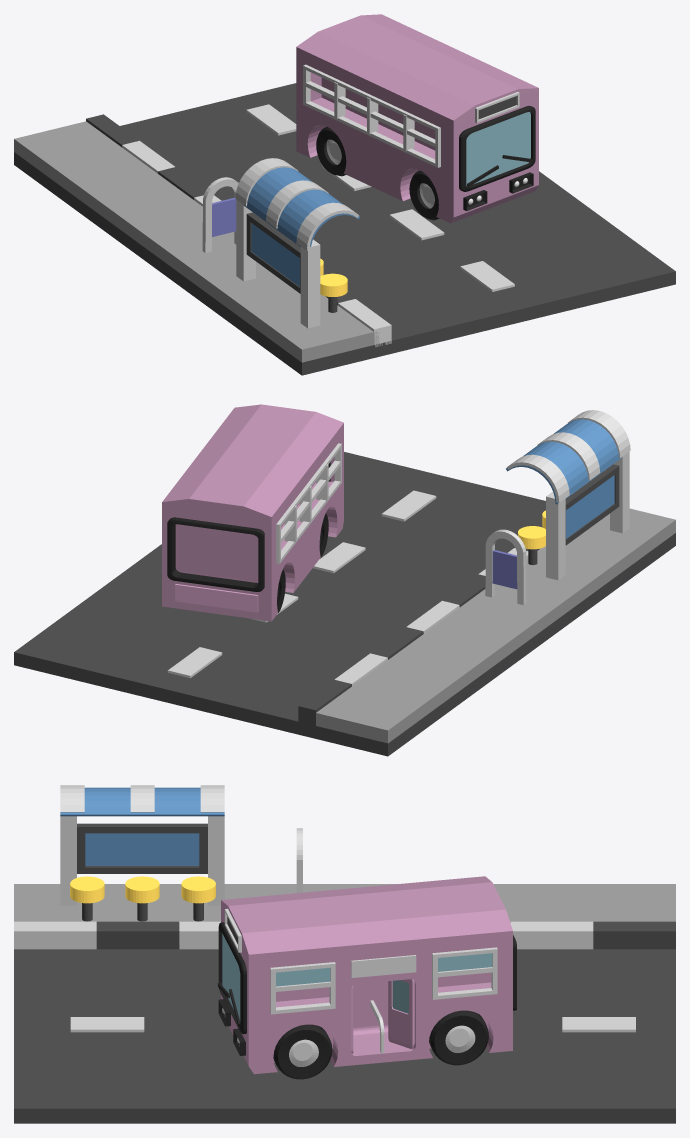
Rendered from bus.glb.
3 views of the same model, one above another, from view 1: azimuth 30°, elevation 25°; view 2: azimuth 150°, elevation 25°; view 3: azimuth 270°, elevation 25° (orthographic). The views are drawn at different scales.
Visible parts, largest first — view 1: Cube.019_Cube.034, Cube_Cube.001, Cube.028_Cube.043, Plane.006, Cube.003_Cube.016, Cylinder.008_Cylinder.015, Cube.024_Cube.039, Cube.013_Cube.020, Cube.027_Cube.002, Cube.026_Cube.046, Cube.029_Cube.045, Cube.025_Cube.040 (+14 smaller); view 2: Cube.019_Cube.034, Cube_Cube.001, Cube.028_Cube.043, Cylinder.008_Cylinder.015, Cube.007_Cube.022, Cube.003_Cube.016, Cube.025_Cube.040, Cube.015_Cube.027, Cube.027_Cube.002, Circle.001_Circle, Cube.026_Cube.046, Cube.035_Cube.010 (+13 smaller); view 3: Cube.019_Cube.034, Cube_Cube.001, Cube.028_Cube.043, Cube.027_Cube.002, Cylinder.008_Cylinder.015, Cube.026_Cube.046, Cube.031_Cube.004, Cube.035_Cube.010, Cube.029_Cube.045, Cube.034_Cube.009, Cylinder.001_Cylinder.006, Cylinder.002 (+22 smaller).
Boxes of the visible parts, left/top/right/bottom form: Cube.019_Cube.034: left=14, top=83, right=675, bottom=375; Cube_Cube.001: left=296, top=14, right=538, bottom=223; Cube.028_Cube.043: left=14, top=121, right=379, bottom=362; Plane.006: left=466, top=112, right=530, bottom=186; Cube.003_Cube.016: left=303, top=64, right=440, bottom=167; Cylinder.008_Cylinder.015: left=243, top=167, right=359, bottom=246; Cube.024_Cube.039: left=300, top=239, right=320, bottom=328; Cube.013_Cube.020: left=459, top=106, right=535, bottom=191; Cube.027_Cube.002: left=251, top=223, right=299, bottom=286; Cube.026_Cube.046: left=246, top=212, right=300, bottom=293; Cube.029_Cube.045: left=338, top=299, right=391, bottom=346; Cube.025_Cube.040: left=236, top=199, right=255, bottom=281; Cube.019_Cube.034: left=14, top=452, right=675, bottom=756; Cube_Cube.001: left=162, top=404, right=343, bottom=621; Cube.028_Cube.043: left=316, top=508, right=675, bottom=743; Cylinder.008_Cylinder.015: left=506, top=419, right=622, bottom=504; Cube.007_Cube.022: left=167, top=517, right=264, bottom=591; Cube.003_Cube.016: left=276, top=443, right=341, bottom=563; Cube.025_Cube.040: left=546, top=491, right=565, bottom=580; Cube.015_Cube.027: left=175, top=584, right=258, bottom=612; Cube.027_Cube.002: left=566, top=475, right=614, bottom=538; Circle.001_Circle: left=485, top=529, right=526, bottom=605; Cube.026_Cube.046: left=565, top=464, right=619, bottom=545; Cube.035_Cube.010: left=298, top=679, right=351, bottom=728; Cube.019_Cube.034: left=14, top=949, right=675, bottom=1123; Cube_Cube.001: left=221, top=876, right=512, bottom=1074; Cube.028_Cube.043: left=14, top=884, right=675, bottom=921; Cube.027_Cube.002: left=85, top=833, right=199, bottom=865; Cylinder.008_Cylinder.015: left=60, top=787, right=224, bottom=816; Cube.026_Cube.046: left=77, top=823, right=207, bottom=873; Cube.031_Cube.004: left=96, top=921, right=179, bottom=949; Cube.035_Cube.010: left=593, top=921, right=675, bottom=949; Cube.029_Cube.045: left=14, top=921, right=96, bottom=949; Cube.034_Cube.009: left=510, top=921, right=593, bottom=949; Cylinder.001_Cylinder.006: left=429, top=1010, right=488, bottom=1065; Cylinder.002: left=273, top=1024, right=332, bottom=1079.
Bounding box in the file's own units: 9.14 × 3.2 × 12.19.
